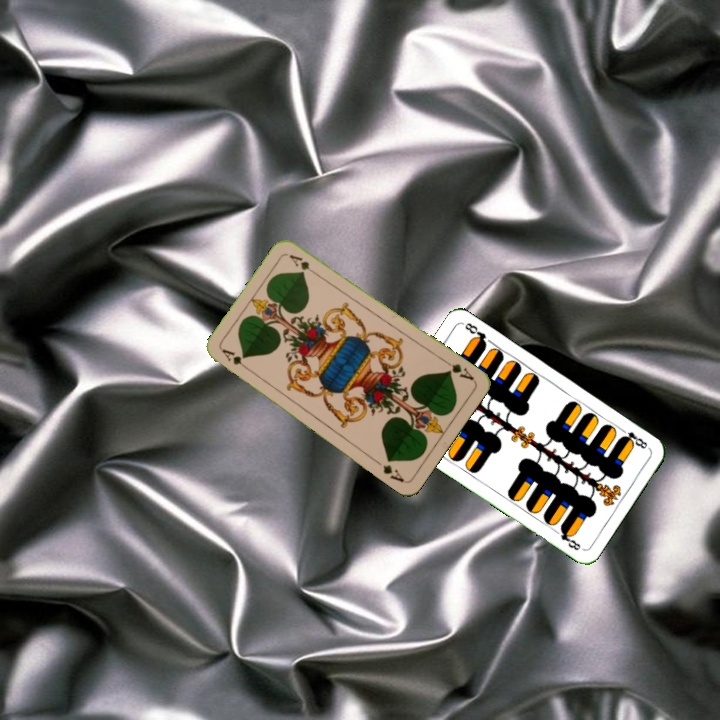E8: (616, 424, 652, 452)
GA: (218, 345, 253, 374), (440, 356, 477, 383)
